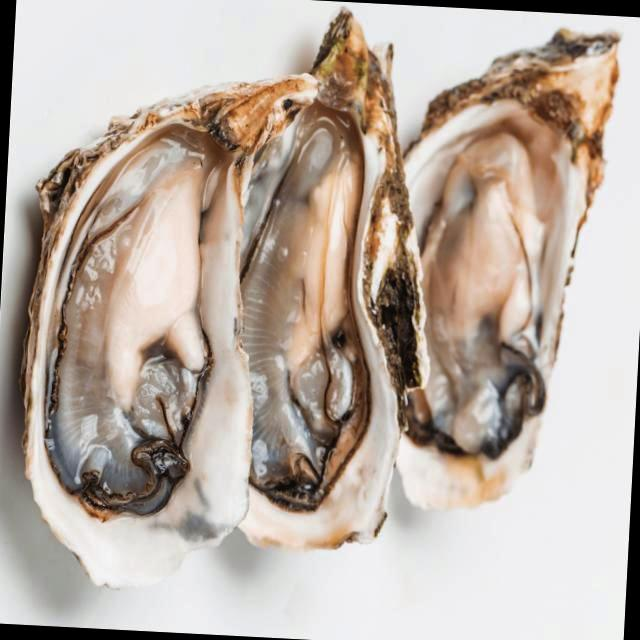Oyster-Open: (24, 75, 316, 586), (398, 31, 618, 508), (240, 11, 426, 547)
